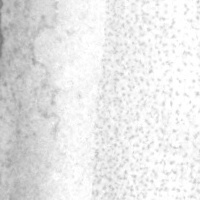pitted_surface: (91, 7, 199, 199), (0, 4, 67, 199)
